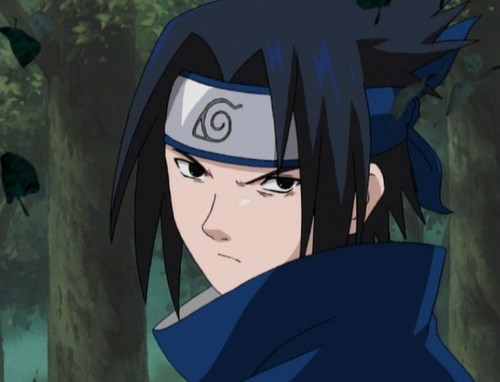sasuke: (159, 66, 413, 299)
